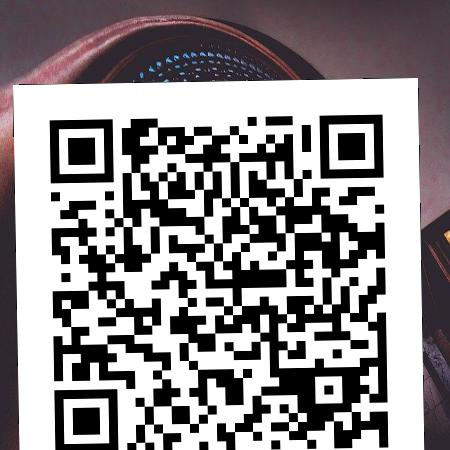qr_code: (13, 58, 424, 450)
